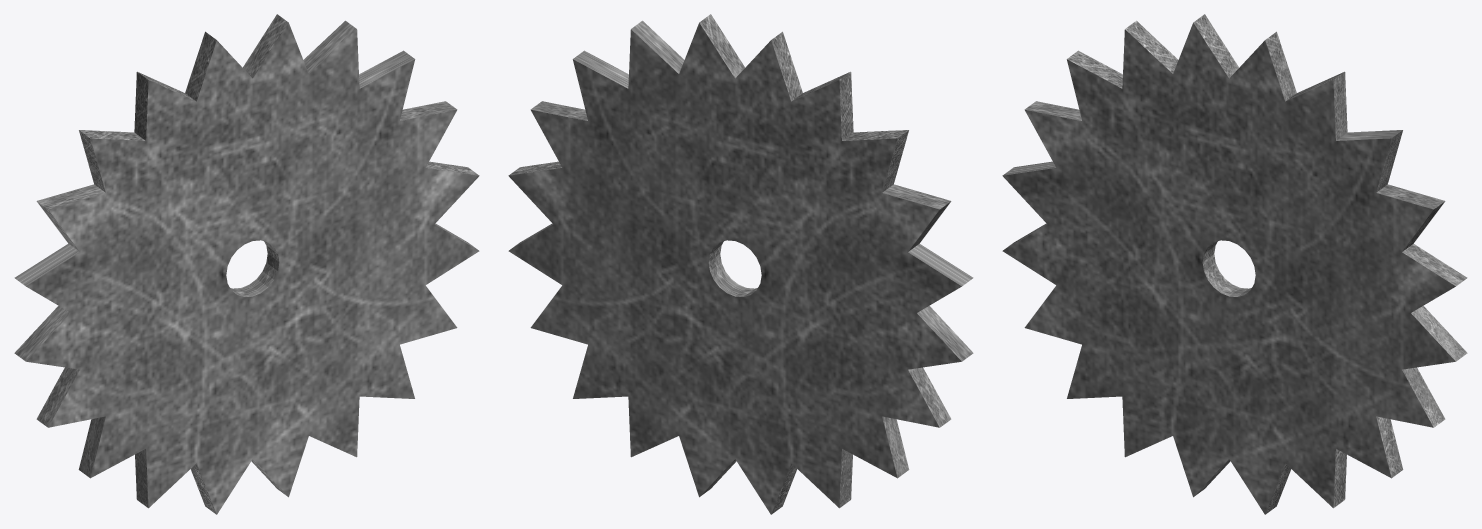
File: cog01.FBX
The picture shows the model from 3 angles, left to right: view 1: azimuth 30°, elevation 25°; view 2: azimuth 150°, elevation 25°; view 3: azimuth 330°, elevation 25°; orthographic projection.
Visible parts, largest first — view 1: cog01; view 2: cog01; view 3: cog01.
Part boxes in pixels (<box>): cog01: <box>14,14,479,514</box>; cog01: <box>508,14,973,514</box>; cog01: <box>1002,14,1467,514</box>.
Size of the model in its own units: 87.94 by 87.94 by 3.92.
1 material, 1 textured.
